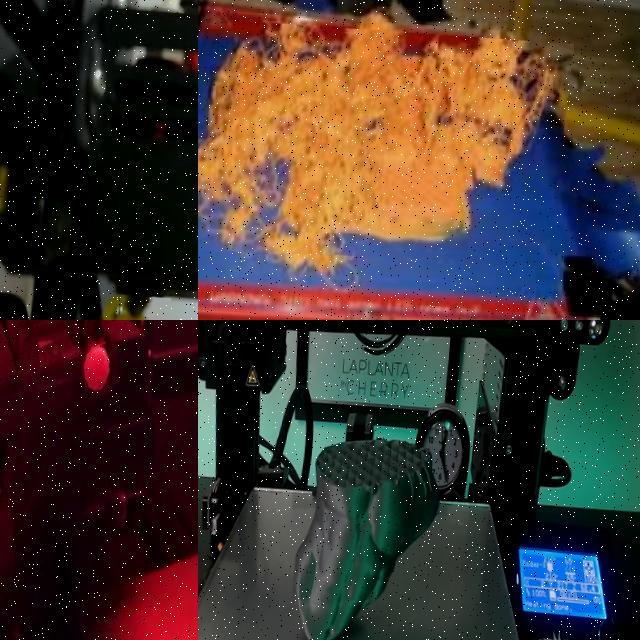spaghetti: (198, 16, 575, 277)
